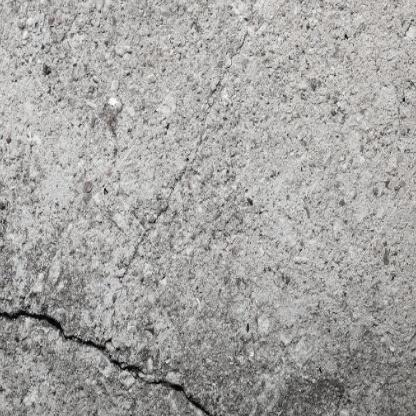Cracks: (0, 301, 248, 416), (115, 136, 208, 290), (204, 26, 253, 118)
